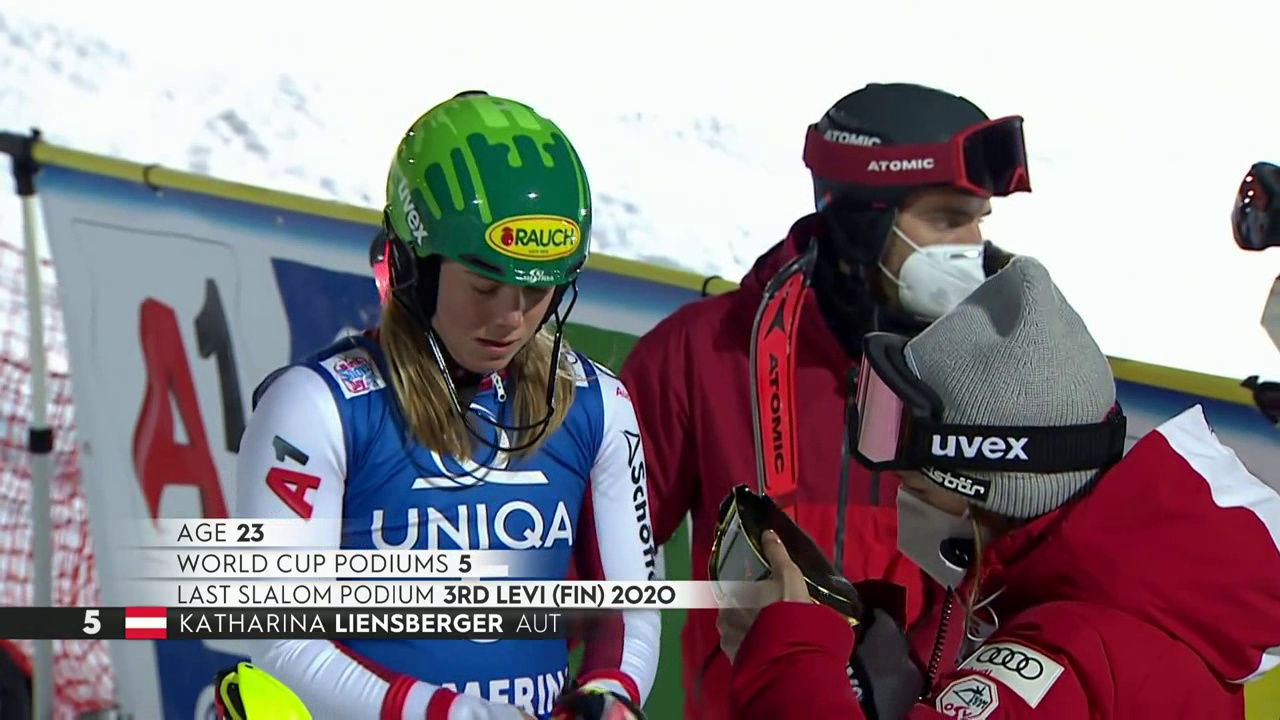a1: (139, 256, 235, 545), (260, 434, 325, 525)
uniqa: (385, 466, 557, 551)
